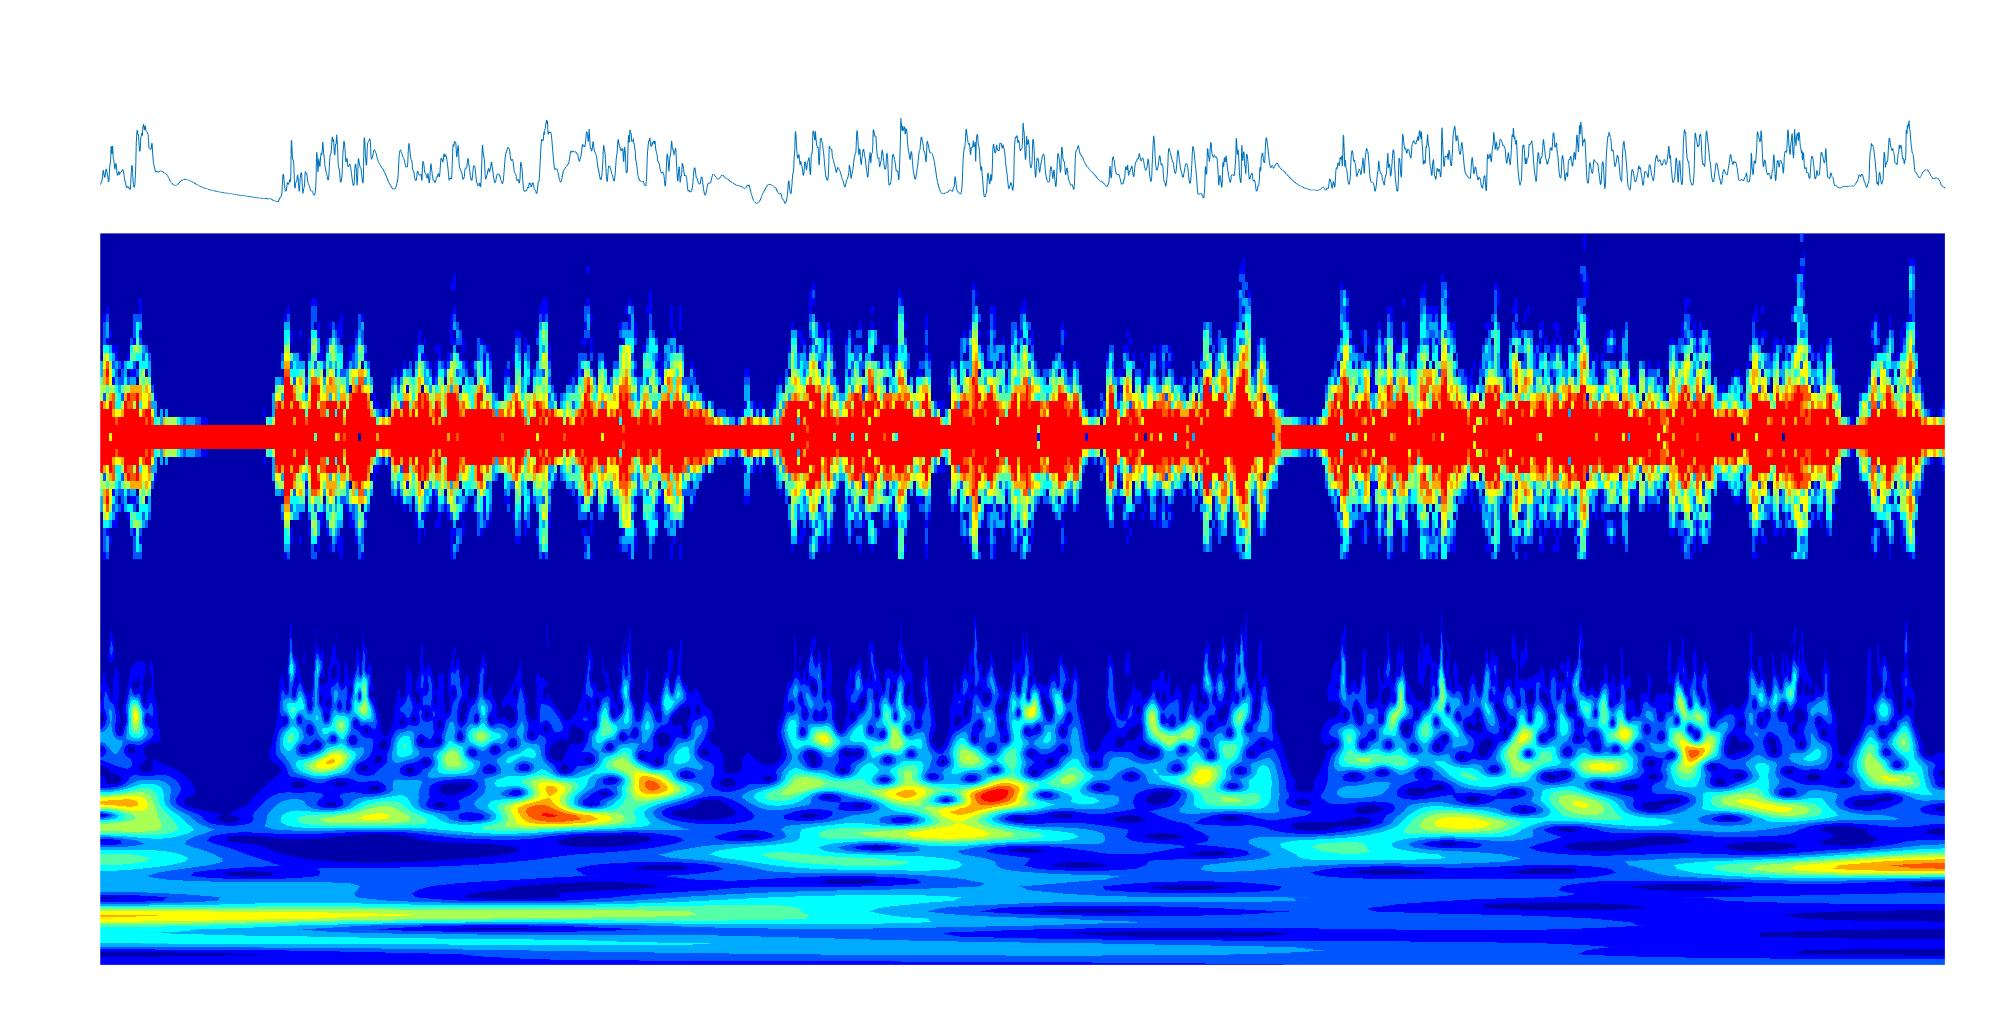TURBULENT: (1326, 233, 1830, 968), (275, 236, 696, 963), (790, 233, 1079, 967), (1104, 235, 1268, 965), (100, 235, 164, 963), (1863, 235, 1916, 965)
